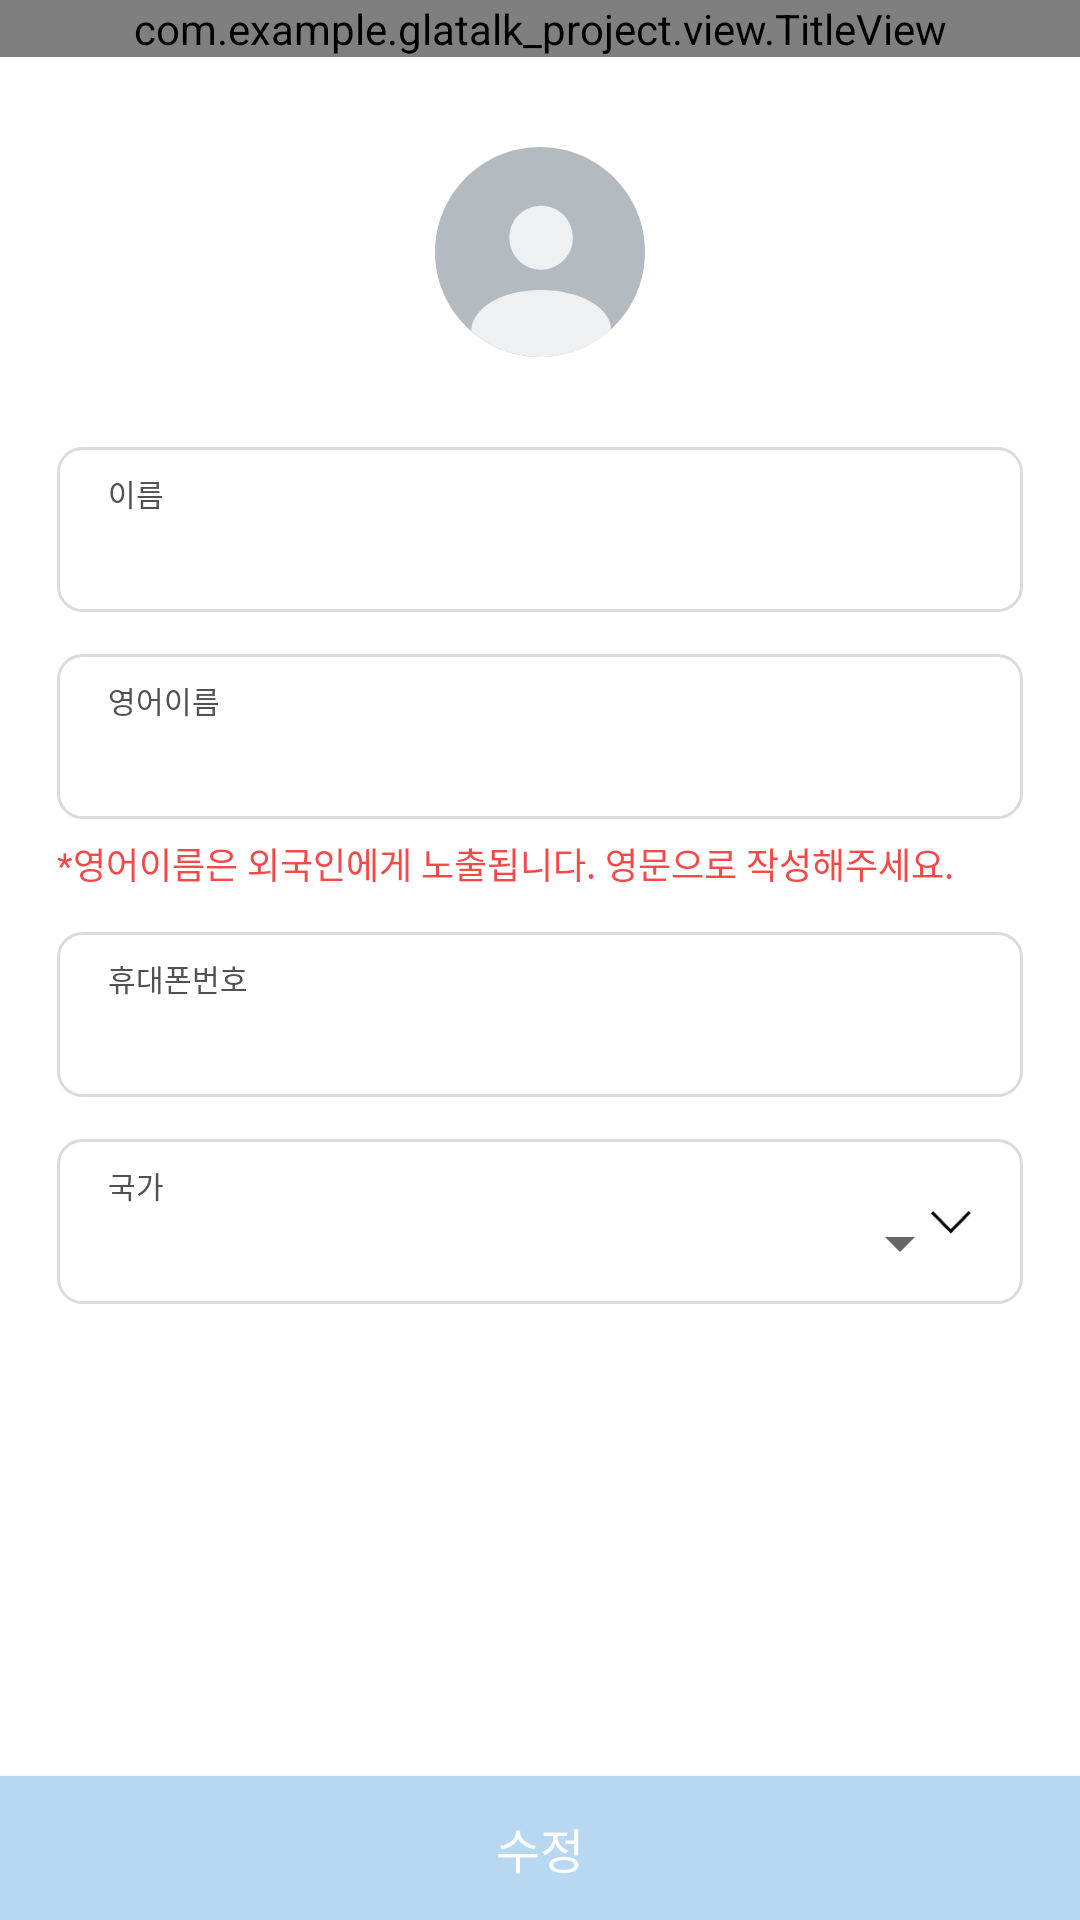

Where to tap for icons on this 1080 × 1920 app screen, as [x,y]:
profile: [540,252]
